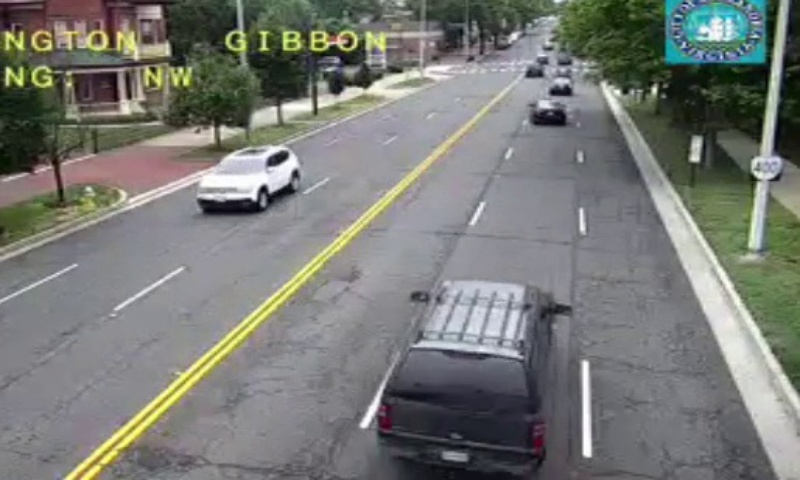car: (378, 281, 549, 474), (532, 101, 568, 126)
